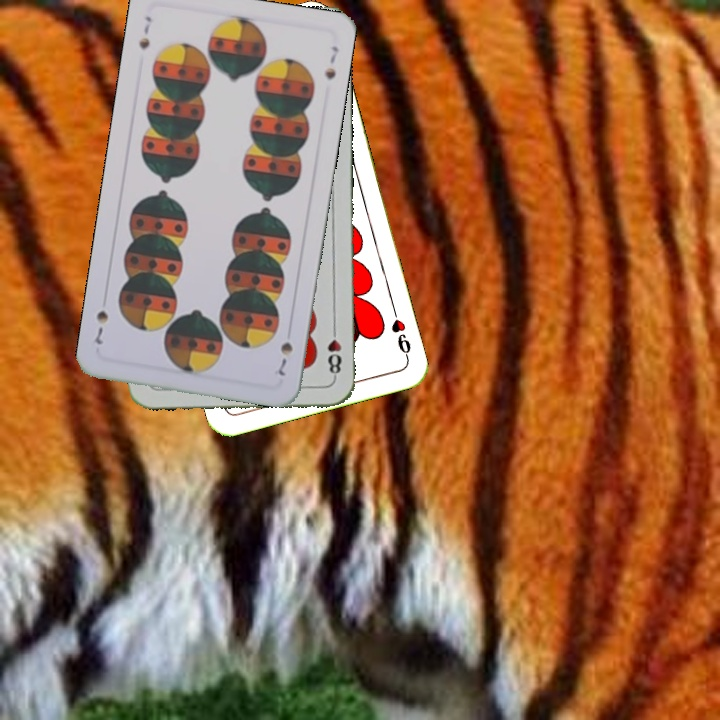H8: (324, 322, 344, 381)
H9: (387, 304, 414, 362)
S7: (274, 338, 295, 379), (135, 12, 154, 52)
